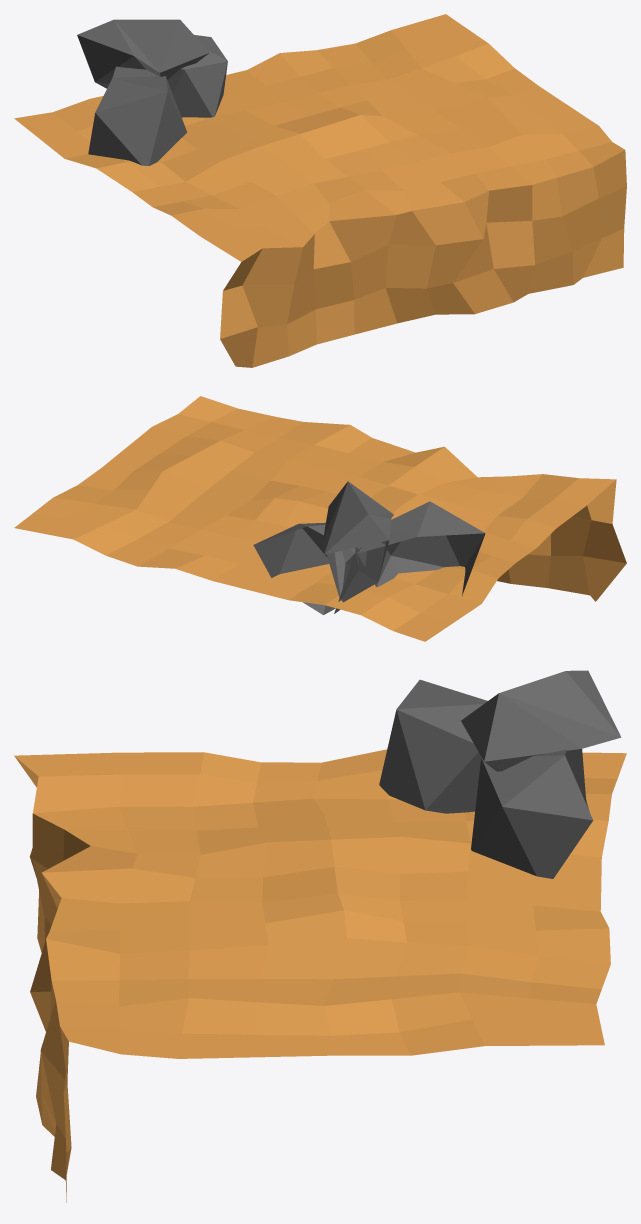
The model's file is foreground.fbx.
The picture shows the model from 3 angles, top to bottom: view 1: azimuth 30°, elevation 25°; view 2: azimuth 150°, elevation 25°; view 3: azimuth 270°, elevation 25°; orthographic projection. The views are drawn at different scales.
Visible parts, largest first — view 1: SandGround, Rock, Rock.002, Rock.003; view 2: SandGround, Rock, Rock.002, Rock.003; view 3: SandGround, Rock.003, Rock.002, Rock.
Part boxes in pixels (left/top/right/bottom): SandGround: left=14, top=14, right=626, bottom=367; Rock: left=88, top=66, right=187, bottom=166; Rock.002: left=77, top=19, right=209, bottom=88; Rock.003: left=167, top=35, right=227, bottom=117; SandGround: left=14, top=396, right=626, bottom=641; Rock: left=357, top=501, right=485, bottom=595; Rock.002: left=322, top=481, right=393, bottom=602; Rock.003: left=253, top=522, right=358, bottom=614; SandGround: left=14, top=749, right=626, bottom=1202; Rock.003: left=471, top=749, right=593, bottom=878; Rock.002: left=461, top=670, right=621, bottom=804; Rock: left=379, top=679, right=487, bottom=813.
Bounding box in the file's own units: 64.59 × 54.24 × 30.03.
